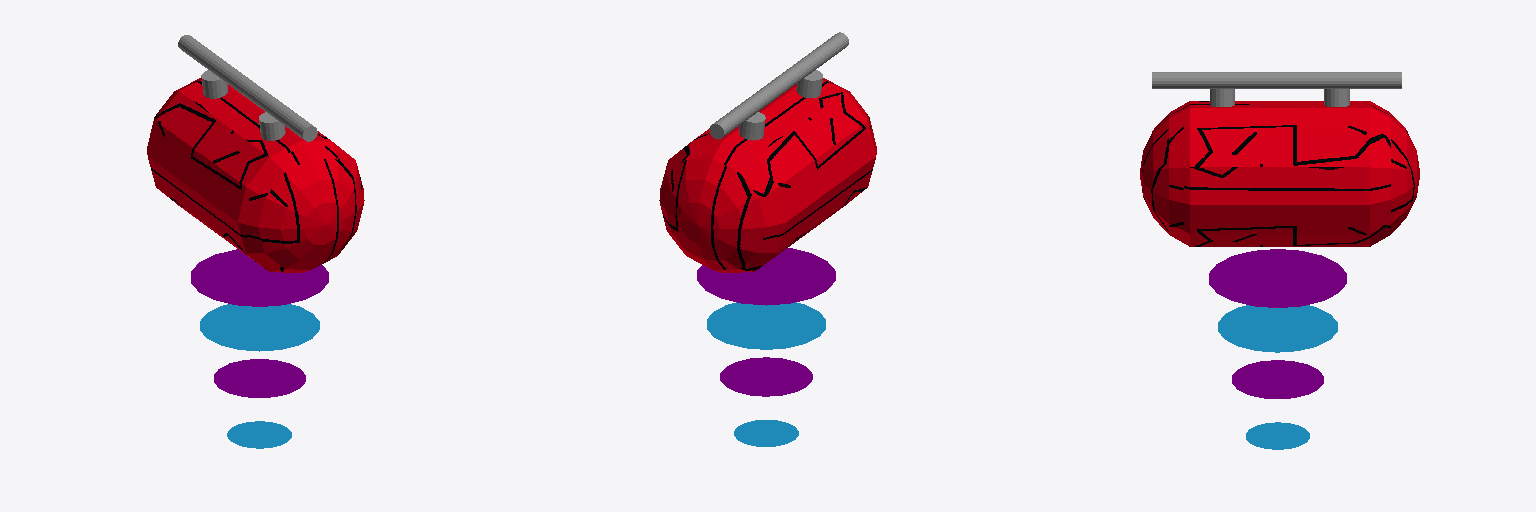
3 renders of one model, left to right at view 1: azimuth 30°, elevation 25°; view 2: azimuth 150°, elevation 25°; view 3: azimuth 270°, elevation 25°, orthographic.
Parts seen in each view (by area): view 1: OilTank001, Cylinder004, Cylinder003, Cylinder002, Cylinder007, Cylinder001, Cylinder005, Cylinder006; view 2: OilTank001, Cylinder004, Cylinder003, Cylinder002, Cylinder007, Cylinder001, Cylinder005, Cylinder006; view 3: OilTank001, Cylinder004, Cylinder003, Cylinder007, Cylinder002, Cylinder001.
Part boxes in pixels (x1,y1,x2,y2): OilTank001: (147,78,364,272); Cylinder004: (191,249,328,306); Cylinder003: (200,304,319,351); Cylinder002: (214,359,305,397); Cylinder007: (178,35,317,141); Cylinder001: (227,421,291,448); Cylinder005: (201,70,227,98); Cylinder006: (259,112,285,140); OilTank001: (659,78,876,272); Cylinder004: (697,248,835,305); Cylinder003: (707,302,825,349); Cylinder002: (720,357,812,396); Cylinder007: (709,32,848,139); Cylinder001: (734,420,798,446); Cylinder005: (739,112,765,140); Cylinder006: (796,70,822,97); OilTank001: (1140,101,1419,246); Cylinder004: (1209,249,1346,307); Cylinder003: (1218,305,1337,352); Cylinder007: (1152,72,1401,88); Cylinder002: (1232,360,1323,398); Cylinder001: (1246,422,1309,449).
Size of the model in its own units: 12.32 by 33.2 by 23.62.
4 materials, 3 textured.